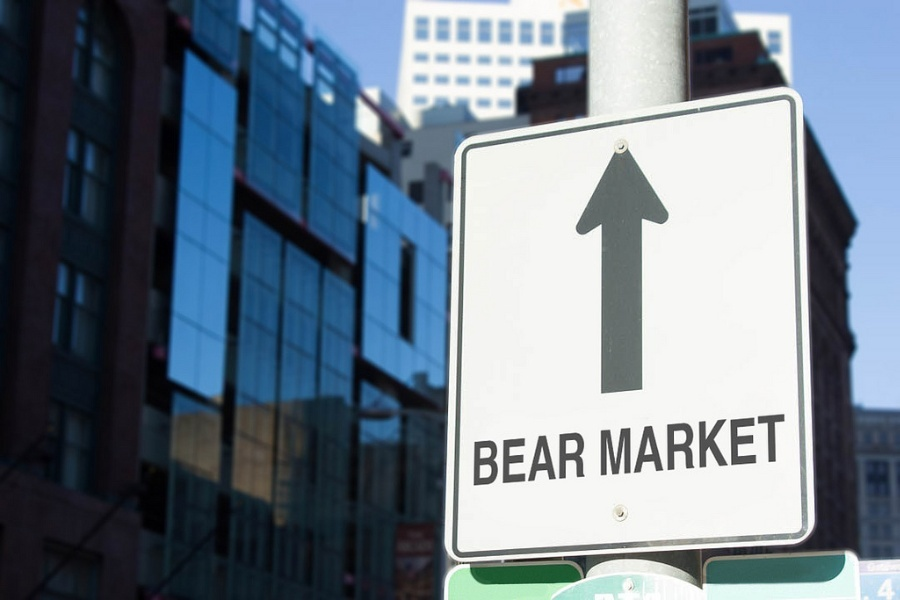text: (769, 414, 785, 477), (609, 414, 624, 477), (625, 414, 640, 477), (641, 414, 656, 477), (657, 414, 672, 477), (673, 414, 688, 477), (689, 414, 704, 477), (705, 414, 720, 477), (721, 414, 736, 477), (737, 414, 752, 477), (753, 414, 768, 477), (481, 430, 496, 488), (497, 430, 512, 488), (513, 430, 528, 488), (529, 430, 544, 488), (545, 430, 560, 488), (561, 430, 576, 488), (577, 430, 586, 488), (472, 430, 480, 488), (601, 414, 608, 477), (881, 576, 896, 600), (881, 562, 896, 572), (866, 562, 880, 572), (875, 576, 880, 600), (897, 576, 899, 600), (897, 562, 899, 572)
